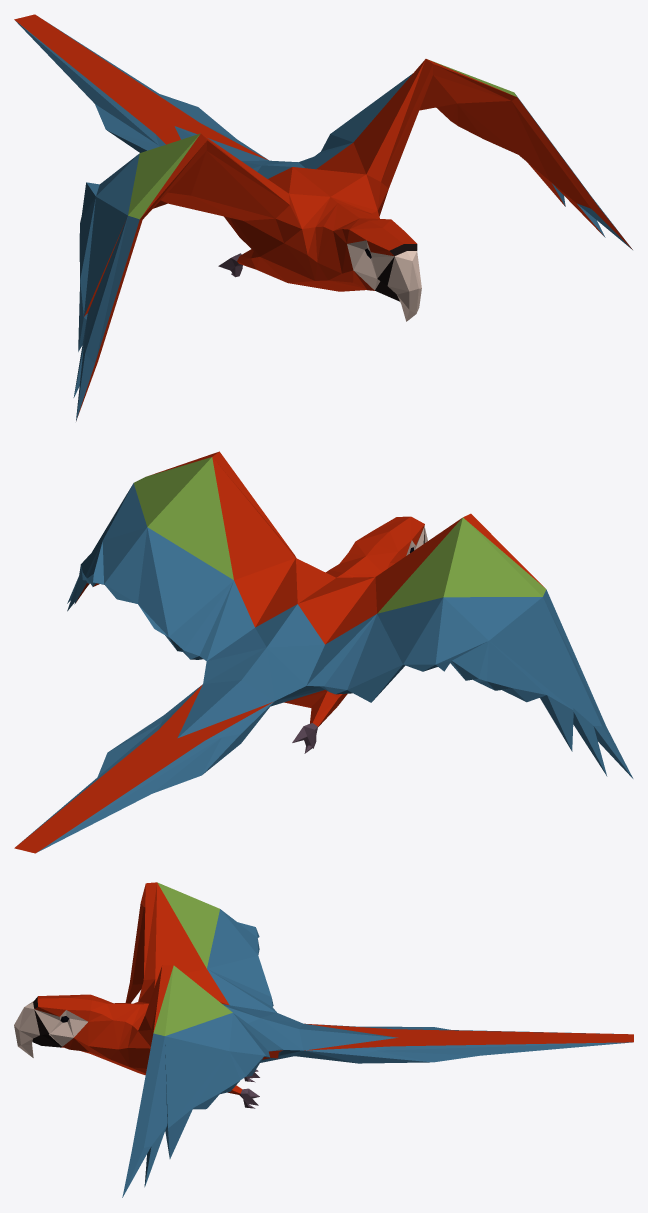
The model's file is Parrot-Optimized.glb.
3 renders of one model, top to bottom at view 1: azimuth 30°, elevation 25°; view 2: azimuth 150°, elevation 25°; view 3: azimuth 270°, elevation 25°, orthographic. The views are drawn at different scales.
Parts seen in each view (by area): view 1: mesh_0; view 2: mesh_0; view 3: mesh_0.
Boxes of the visible parts, bbox=[...] form: mesh_0: bbox=[14, 14, 632, 421]; mesh_0: bbox=[14, 451, 633, 853]; mesh_0: bbox=[14, 882, 633, 1197].
Bounding box in the file's own units: 2604727 × 1104508 × 3191442.
